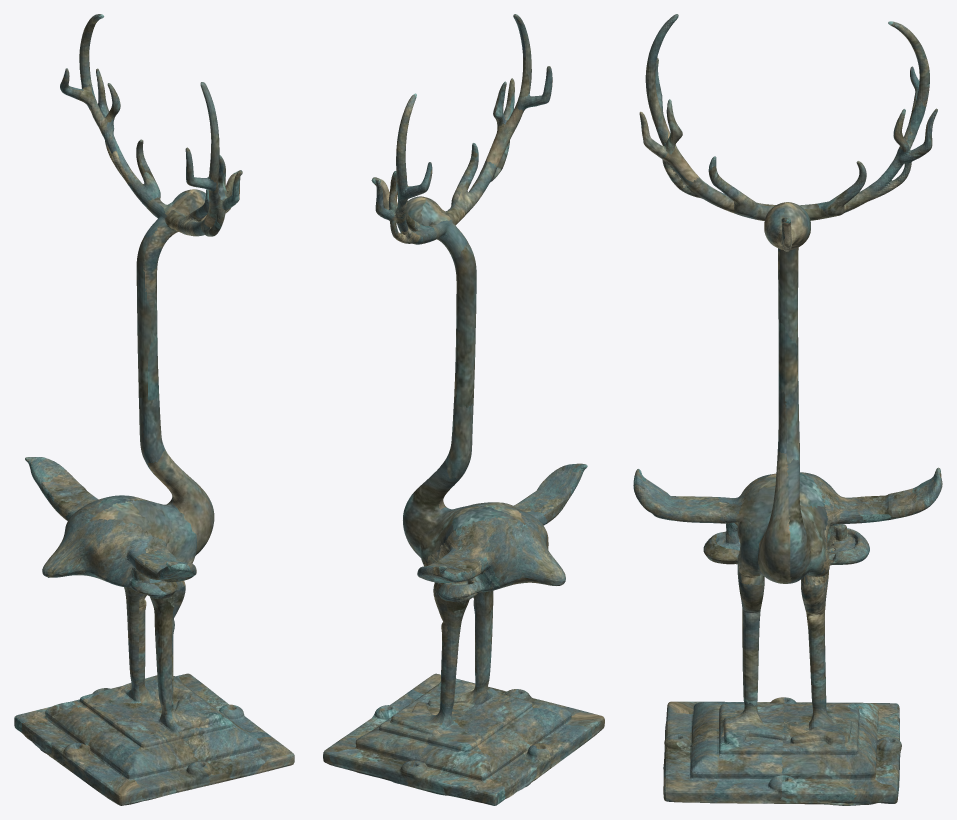
Rendered from 鹿角立鹤 .gltf.
The picture shows the model from 3 angles, left to right: view 1: azimuth 30°, elevation 25°; view 2: azimuth 150°, elevation 25°; view 3: azimuth 270°, elevation 25°; orthographic projection. The views are drawn at different scales.
Parts seen in each view (by area): view 1: tripo_node_09952cfe-f247-418f-a7ea-6b409abfd54c 1; view 2: tripo_node_09952cfe-f247-418f-a7ea-6b409abfd54c 1; view 3: tripo_node_09952cfe-f247-418f-a7ea-6b409abfd54c 1.
Part boxes in pixels (x1,y1,x2,y2): tripo_node_09952cfe-f247-418f-a7ea-6b409abfd54c 1: (14,14,294,805); tripo_node_09952cfe-f247-418f-a7ea-6b409abfd54c 1: (323,14,604,805); tripo_node_09952cfe-f247-418f-a7ea-6b409abfd54c 1: (633,14,942,805).
Bounding box in the file's own units: 0.2926 × 1 × 0.3753.
1 material, 1 textured.
